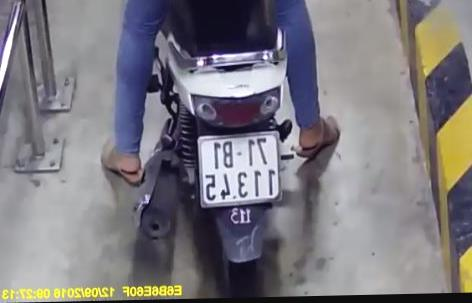License_Plate: (196, 128, 287, 212)
